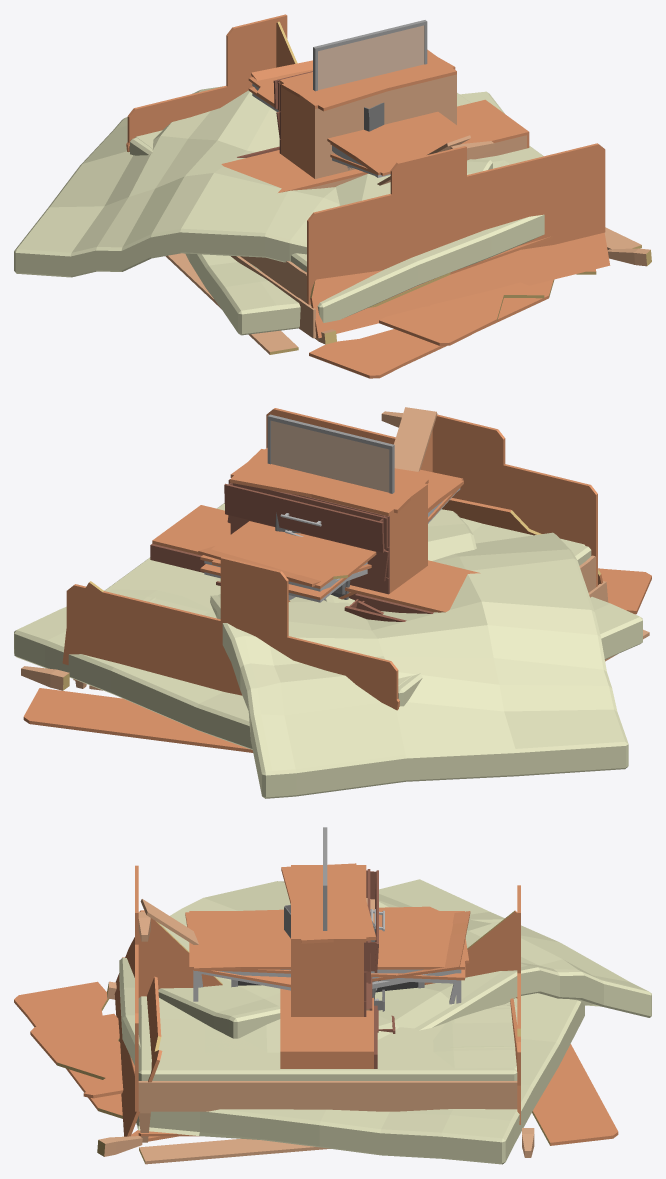
Rendered from FurnitureSet1.fbx.
3 renders of one model, top to bottom at view 1: azimuth 30°, elevation 25°; view 2: azimuth 150°, elevation 25°; view 3: azimuth 270°, elevation 25°, orthographic. The views are drawn at different scales.
Visible parts, largest first — view 1: BedBig1.3, BedBig1.2, BedSmall1.4, BedBig1.5, BedBig1.1, BedBig1.4, Commode1.3, BedSmall1.5, TableOffice2.1, Commode1.4, Сurbstone1.3, Commode1.5 (+12 smaller); view 2: BedBig1.3, BedBig1.1, BedBig1.4, BedSmall1.4, Commode1.3, Commode1.4, TableOffice2.2, BedBig1.2, OfficeWall1.4, Сurbstone1.3, OfficeWall1.5, BedSmall1.3 (+13 smaller); view 3: BedBig1.4, BedBig1.1, BedBig1.3, BedBig1.2, Commode1.4, TableOffice2.1, BedSmall1.4, BedBig1.5, TableOffice2.2, BedSmall1.5, Commode1.5, BedSmall1.3 (+11 smaller).
Boxes of the visible parts, box(x1,y1,x2,y2) form: BedBig1.3: box(14, 86, 605, 290); BedBig1.2: box(126, 131, 605, 304); BedSmall1.4: box(185, 14, 494, 335); BedBig1.5: box(165, 154, 596, 378); BedBig1.1: box(127, 81, 605, 305); BedBig1.4: box(231, 91, 651, 338); Commode1.3: box(273, 49, 456, 178); BedSmall1.5: box(379, 282, 544, 345); TableOffice2.1: box(248, 72, 479, 175); Commode1.4: box(278, 51, 456, 177); Сurbstone1.3: box(236, 100, 528, 192); Commode1.5: box(279, 74, 456, 178); BedBig1.3: box(66, 431, 628, 798); BedBig1.1: box(66, 408, 597, 709); BedBig1.4: box(14, 498, 608, 752); BedSmall1.4: box(220, 407, 642, 695); Commode1.3: box(224, 448, 427, 579); Commode1.4: box(228, 449, 428, 591); TableOffice2.2: box(212, 468, 463, 584); BedBig1.2: box(62, 408, 597, 710); OfficeWall1.4: box(270, 415, 389, 492); Сurbstone1.3: box(150, 505, 456, 614); OfficeWall1.5: box(267, 414, 394, 493); BedSmall1.3: box(159, 465, 508, 694); BedBig1.4: box(97, 937, 618, 1164); BedBig1.1: box(135, 865, 520, 1142); BedBig1.3: box(135, 879, 651, 1110); BedBig1.2: box(135, 919, 520, 1124); Commode1.4: box(281, 863, 378, 1016); TableOffice2.1: box(189, 911, 464, 969); BedSmall1.4: box(135, 877, 520, 998); BedBig1.5: box(14, 958, 517, 1141); TableOffice2.2: box(185, 906, 469, 973); BedSmall1.5: box(30, 1005, 517, 1098); Commode1.5: box(291, 942, 378, 1032); BedSmall1.3: box(158, 976, 280, 1038).
Bounding box in the file's own units: 653 × 250 × 660.
